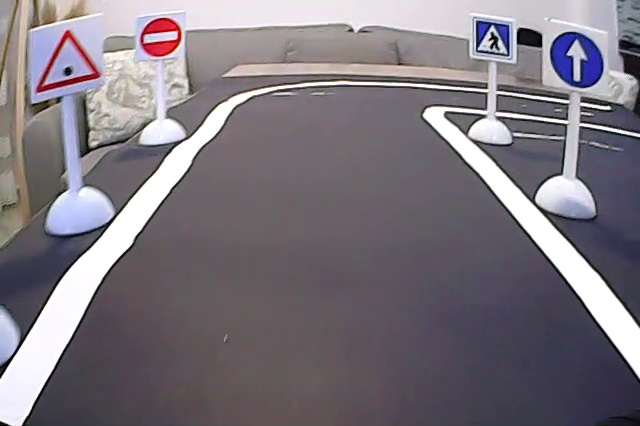do not enter: (136, 16, 190, 60)
green light: (32, 29, 108, 93)
pedestrian crossing: (471, 14, 516, 60)
